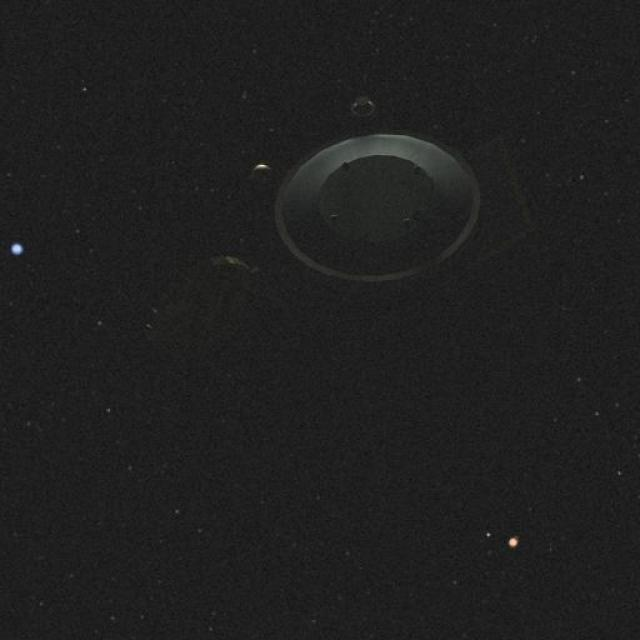debris: (118, 102, 544, 375)
